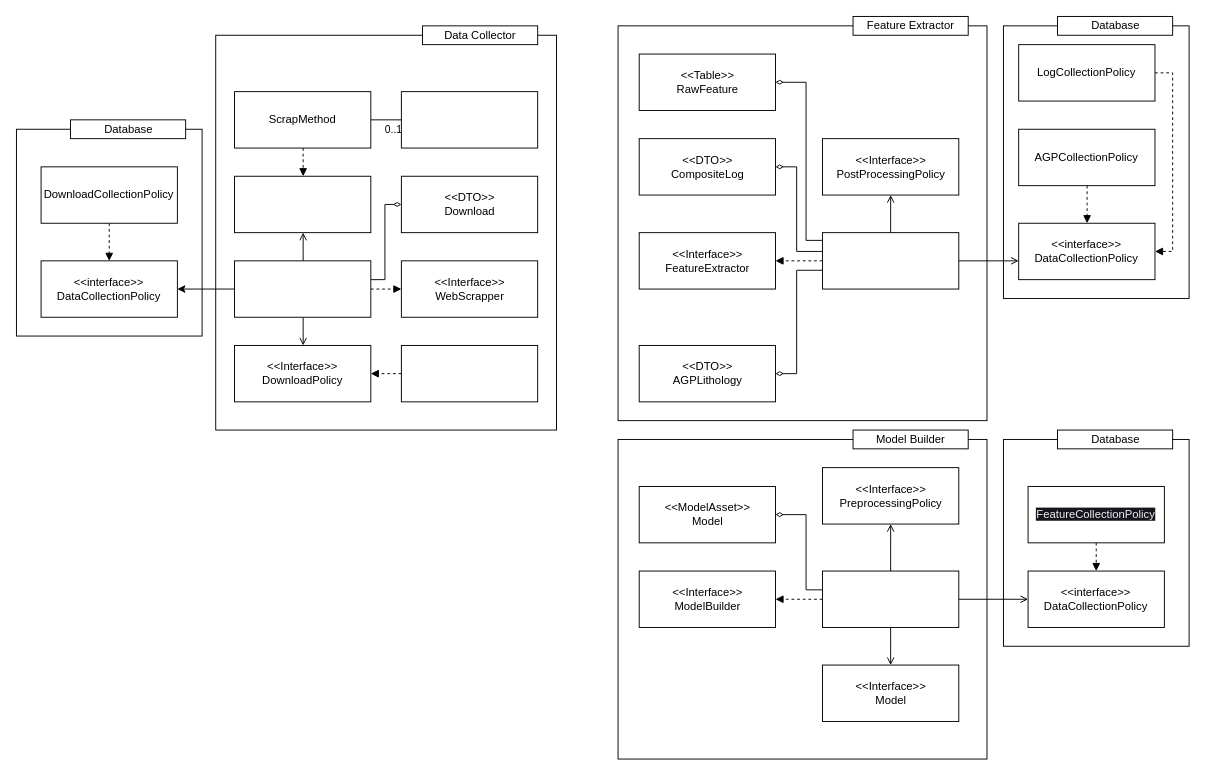
This 1206x776 diagram has some shape labels left out. The shapes that lost their labels are listed below. From the top down, each one's centre as x and y in pixels, then its label:
point (469, 119): <<Interface>> AuthPolicy
point (302, 204): <<Interface>> Scrapper
point (890, 260): FeatureExtractorEngine
point (302, 288): WebScrapperEngine
point (469, 373): Aria2pDownloader
point (890, 598): ModelBuilderEngine
